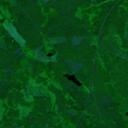alloviz: (62, 71, 83, 88)
